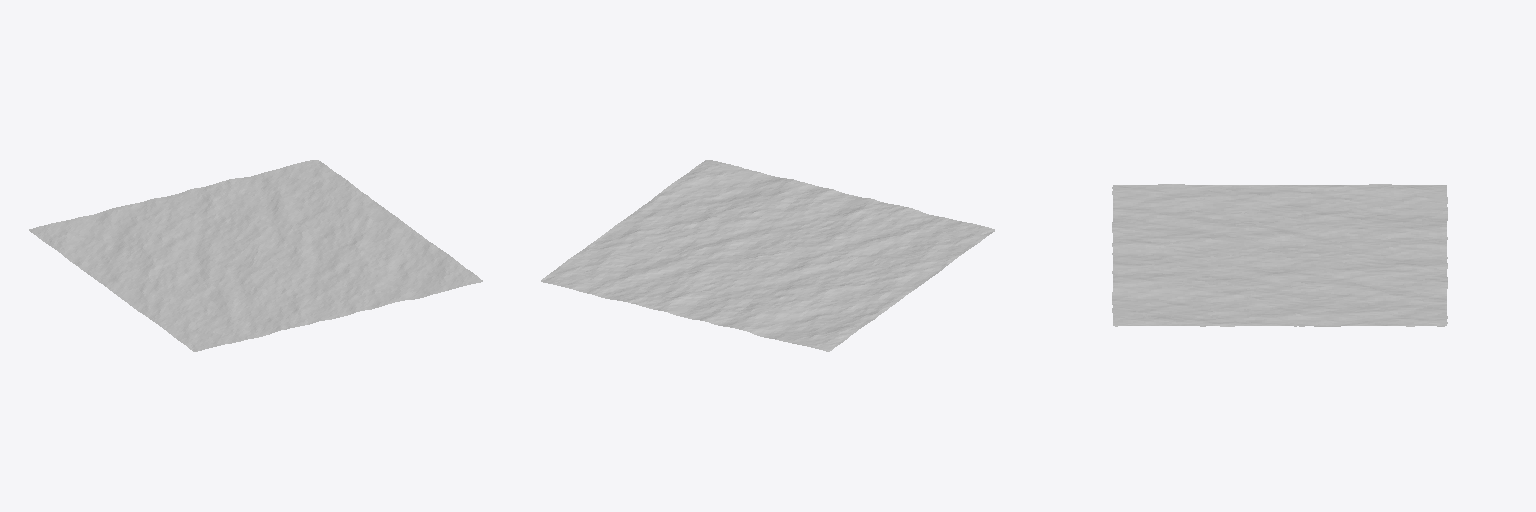
The model's file is sea_000050.obj.
3 renders of one model, left to right at view 1: azimuth 30°, elevation 25°; view 2: azimuth 150°, elevation 25°; view 3: azimuth 270°, elevation 25°, orthographic.
Parts seen in each view (by area): view 1: Plane; view 2: Plane; view 3: Plane.
Boxes of the visible parts, <box> form: Plane: <box>29,160,482,351</box>; Plane: <box>541,160,994,351</box>; Plane: <box>1112,184,1447,326</box>.
Size of the model in its own units: 200 by 1.93 by 200.